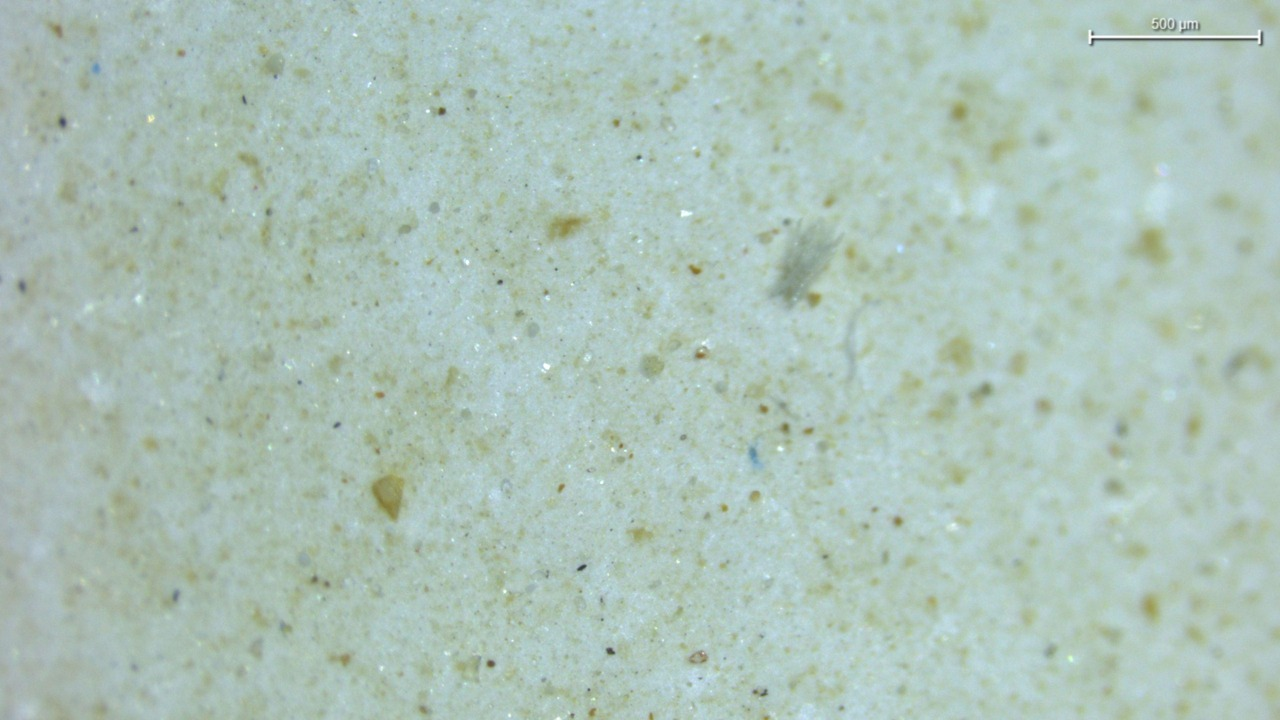microplastic_fragment: (372, 475, 403, 519)
